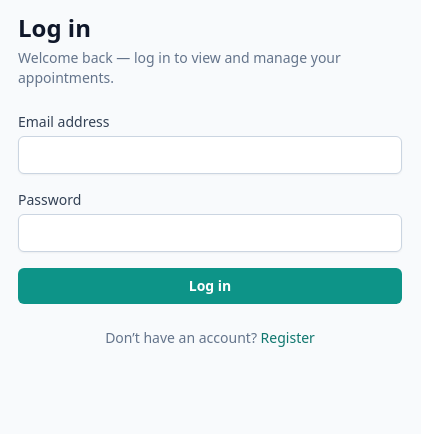
Test: LoginPage › shows error alert on wrong password (INVALID_CREDENTIALS)
Type "test@example.com" into the field labelled "Email address" at x=210, y=155, box x1=18 y1=136 x2=402 y2=174
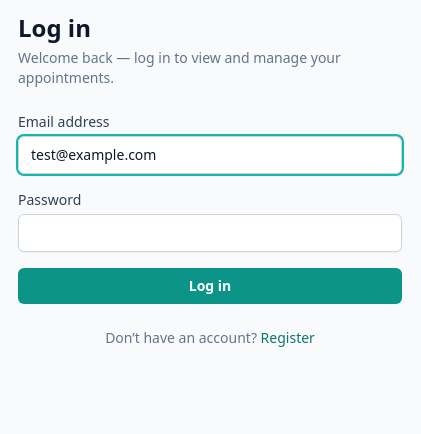
Type "wrong-password" into the password field labelled "Password" at x=210, y=233, box x1=18 y1=214 x2=402 y2=252
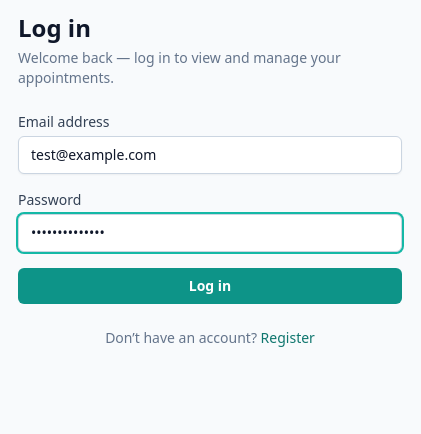
Click the button "Log in" at x=210, y=286, box x1=18 y1=268 x2=402 y2=304
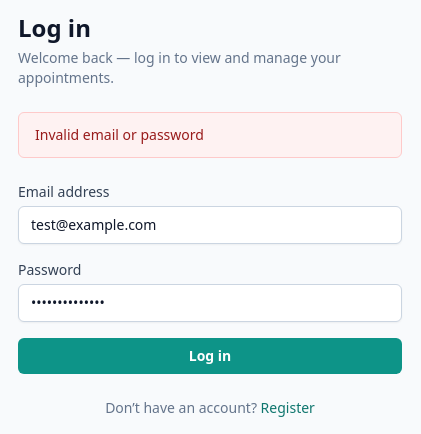
expect the message reads "Invalid email or password": met, box x1=35 y1=125 x2=204 y2=144
